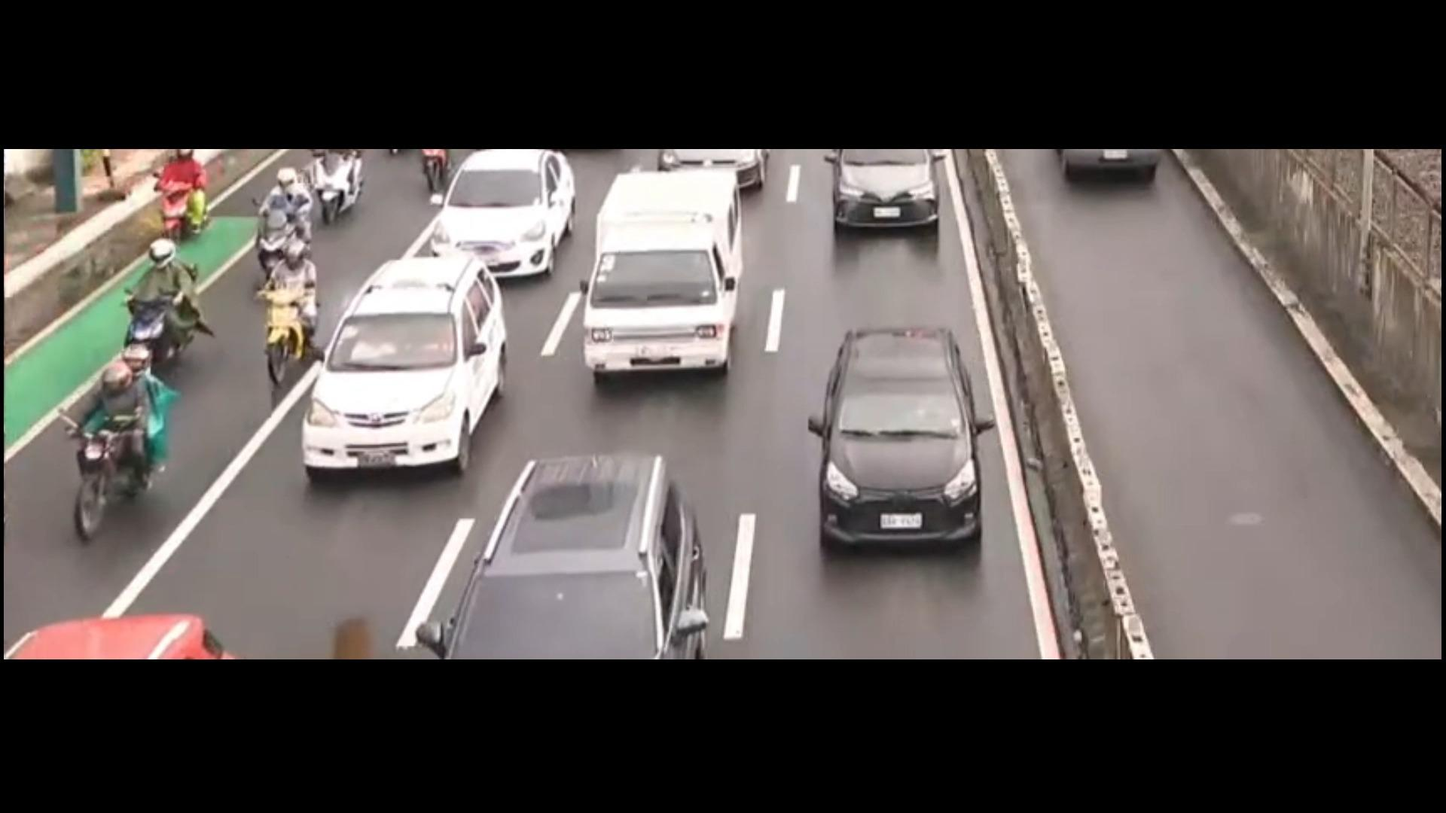Motorcycle: (58, 354, 168, 534), (113, 231, 198, 386), (141, 145, 220, 250), (264, 241, 313, 405), (249, 158, 305, 275)
Multicab: (587, 169, 742, 373)
SUV: (441, 452, 715, 664), (296, 258, 506, 480), (798, 324, 983, 548)
Sedan: (401, 154, 574, 290), (840, 152, 945, 245)
